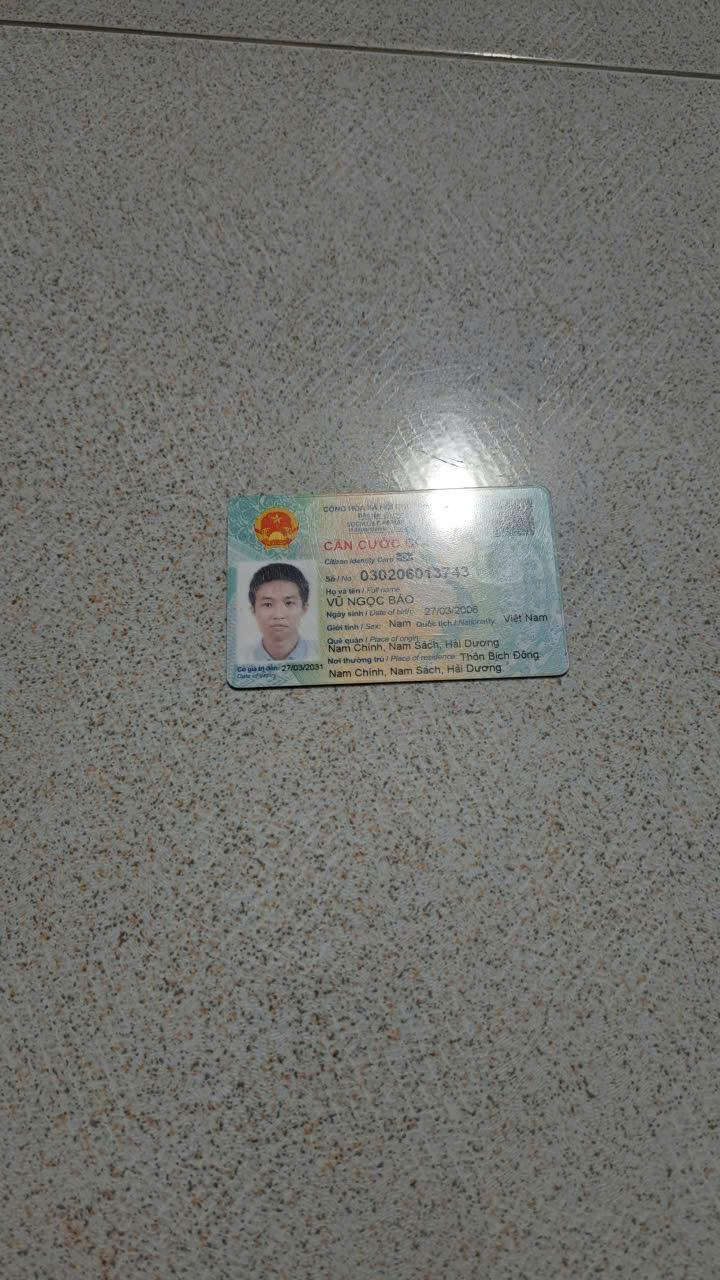cccd: (212, 461, 580, 710)
